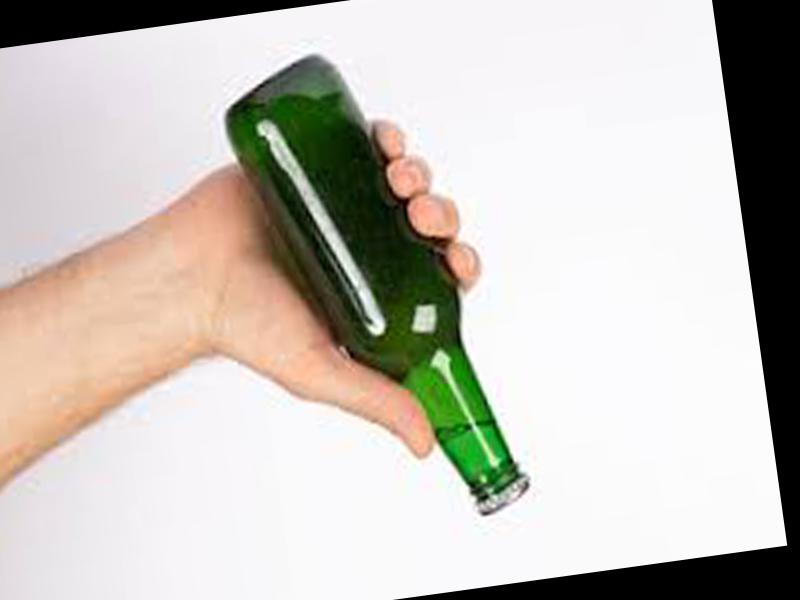Beer: (217, 38, 531, 546)
